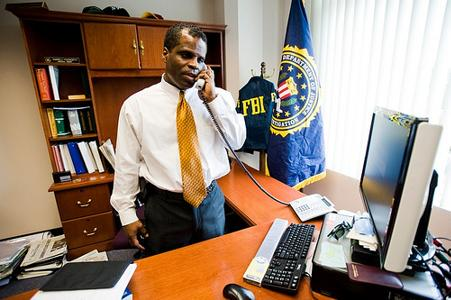person: (111, 24, 247, 259)
